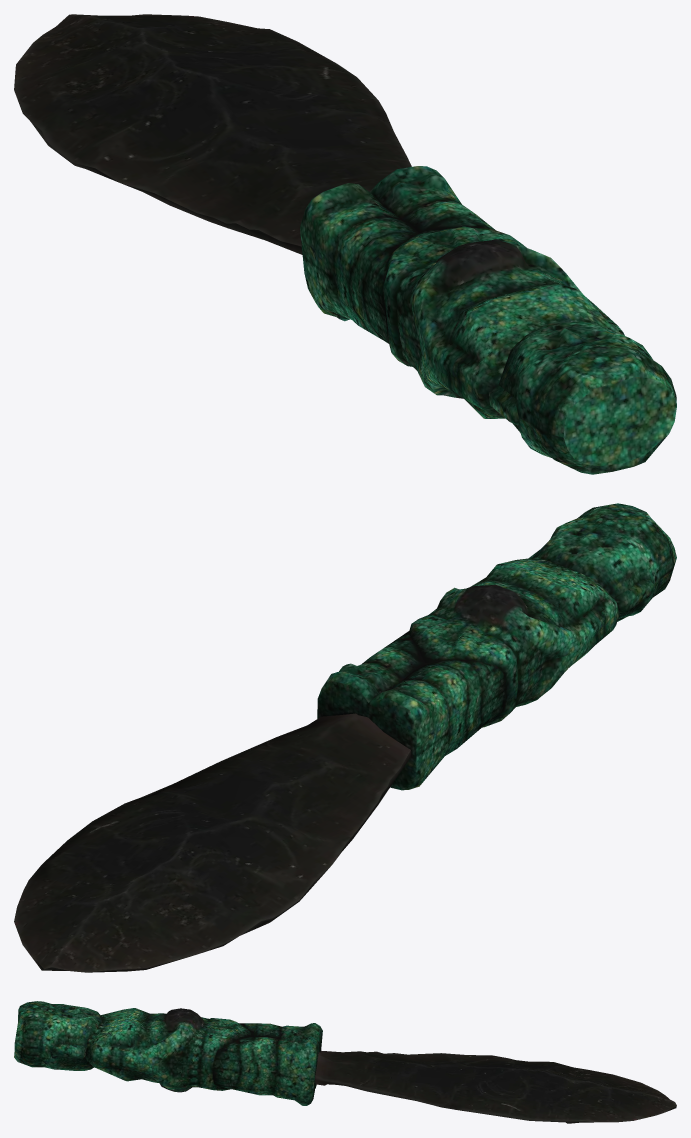
The model's file is bone.knife.obsidian.entity.glb.
3 views of the same model, one above another, from view 1: azimuth 30°, elevation 25°; view 2: azimuth 150°, elevation 25°; view 3: azimuth 270°, elevation 25° (orthographic). The views are drawn at different scales.
Visible parts, largest first — view 1: obsidianknife_LOD0; view 2: obsidianknife_LOD0; view 3: obsidianknife_LOD0.
Boxes of the visible parts, x1,y1,x2,y2 form: obsidianknife_LOD0: (14,14,676,474); obsidianknife_LOD0: (14,503,676,972); obsidianknife_LOD0: (14,1001,676,1123).
Size of the model in its own units: 0.0805 by 0.044 by 0.319.
1 material, 1 textured.
